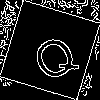Q: (25, 25, 82, 86)
